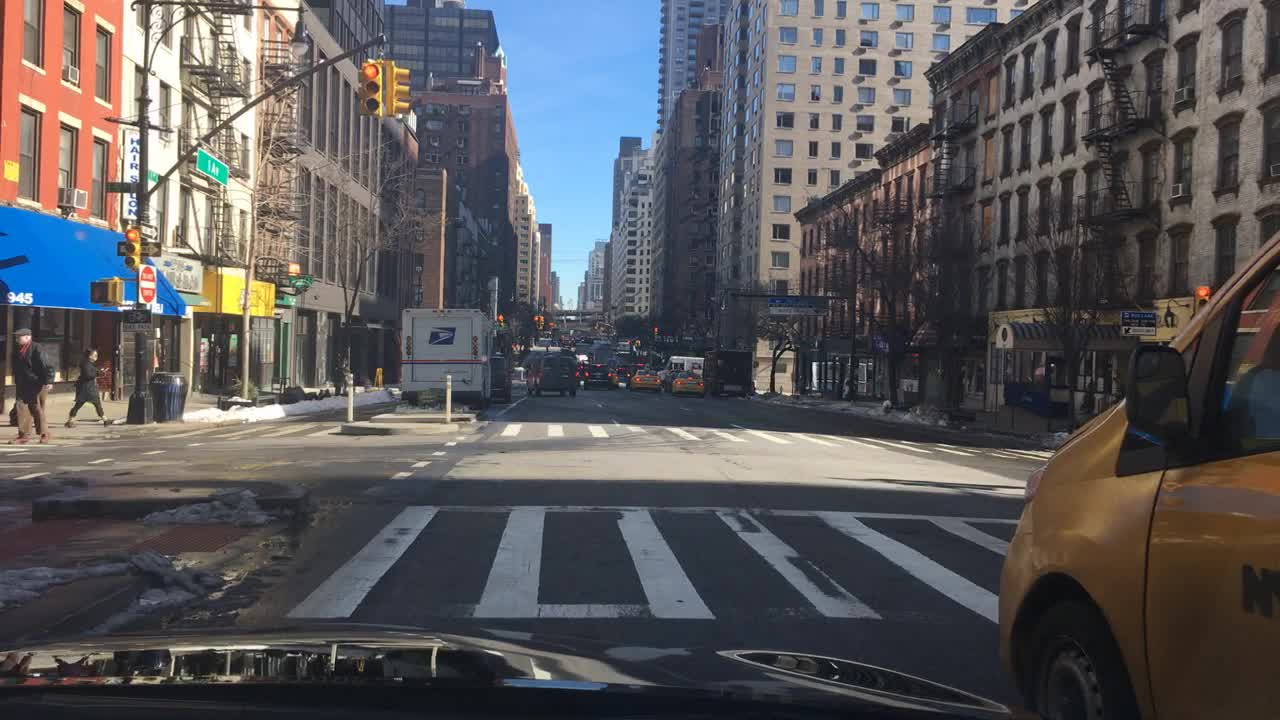car: (998, 223, 1275, 718), (531, 353, 582, 401), (490, 354, 512, 406), (584, 362, 619, 390), (628, 366, 663, 394), (666, 370, 701, 397), (512, 366, 531, 395)
person: (7, 328, 55, 449), (64, 350, 112, 429)
traffic light: (385, 61, 411, 121), (358, 61, 385, 116), (91, 280, 122, 304), (126, 229, 139, 267), (1197, 284, 1208, 319)
traffic sign: (195, 145, 229, 185), (1121, 311, 1156, 337), (124, 310, 154, 334), (136, 265, 156, 300), (104, 183, 135, 192)
truck: (397, 306, 498, 408), (705, 348, 754, 401)
